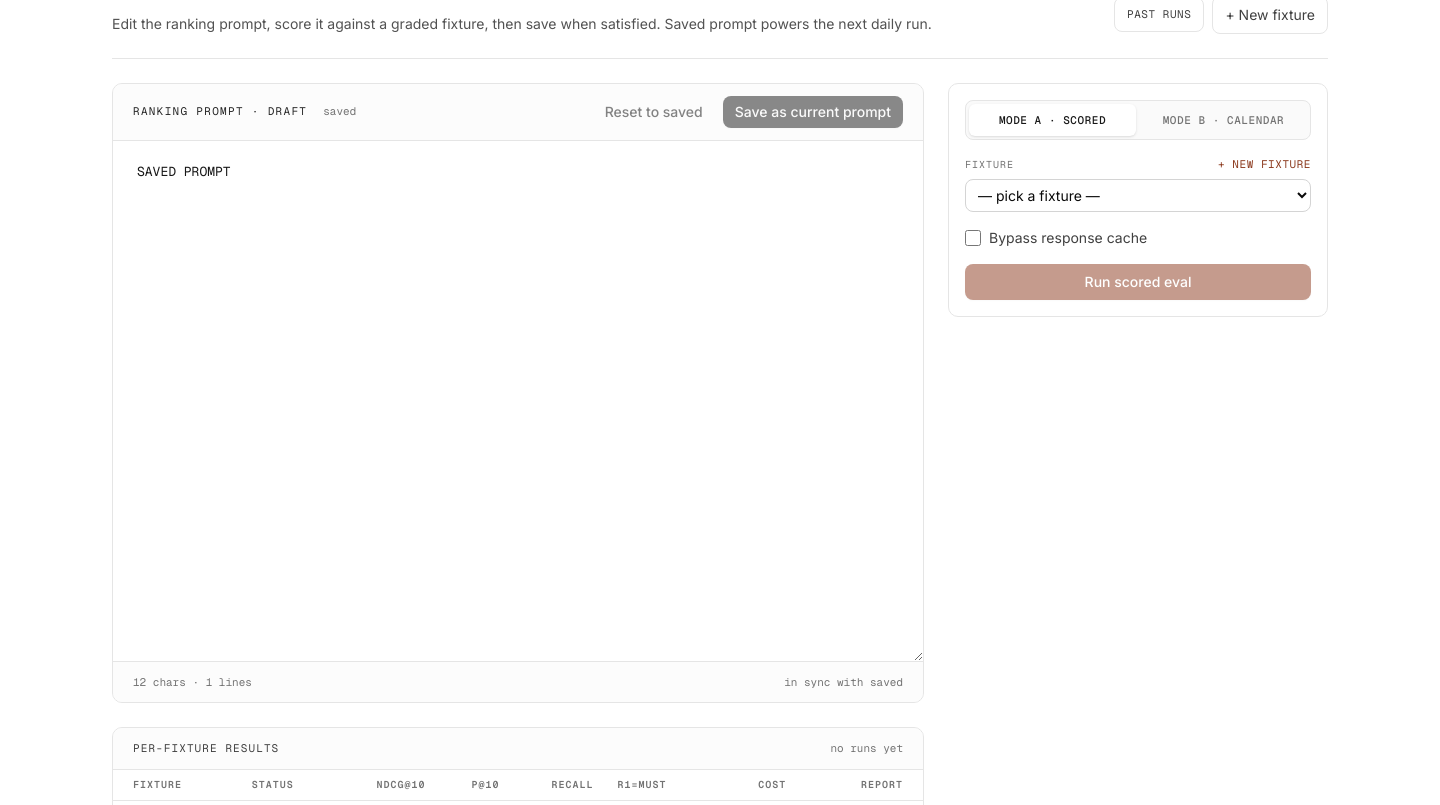
Test: EvalIndexPage › Cancel in diff modal does not save
(page scrolled)
Replace the text in the text box with test id "prompt-editor-textarea" with "DRAFT PROMPT" at (518, 400), box [113, 140, 923, 660]
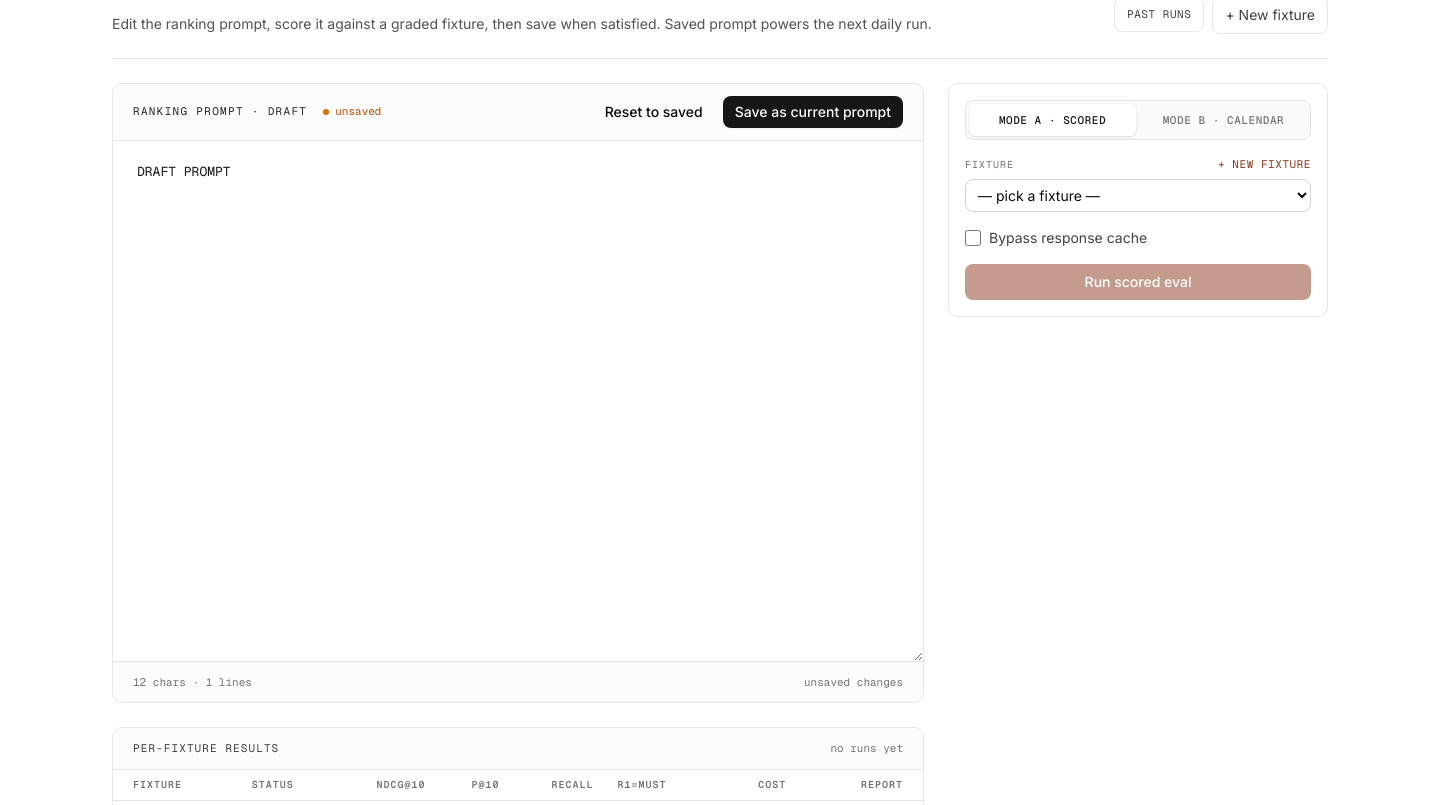
Click the button "Save as current prompt".
click(813, 112)  # box [723, 96, 903, 128]
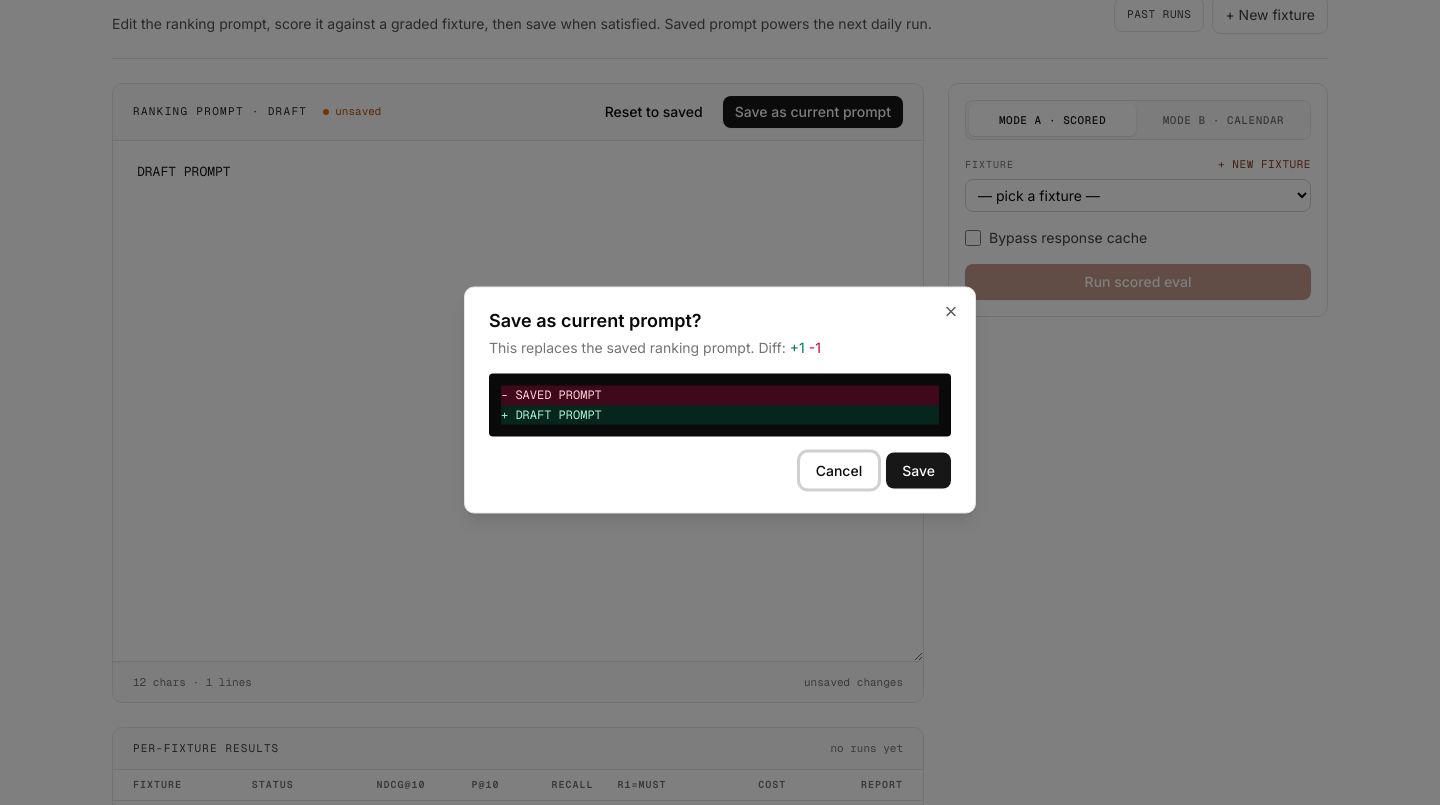
expect the element with test id "prompt-diff-body" is shown: met, box [489, 374, 951, 436]
Click the button "Cancel".
click(839, 470)  # box [800, 452, 878, 488]
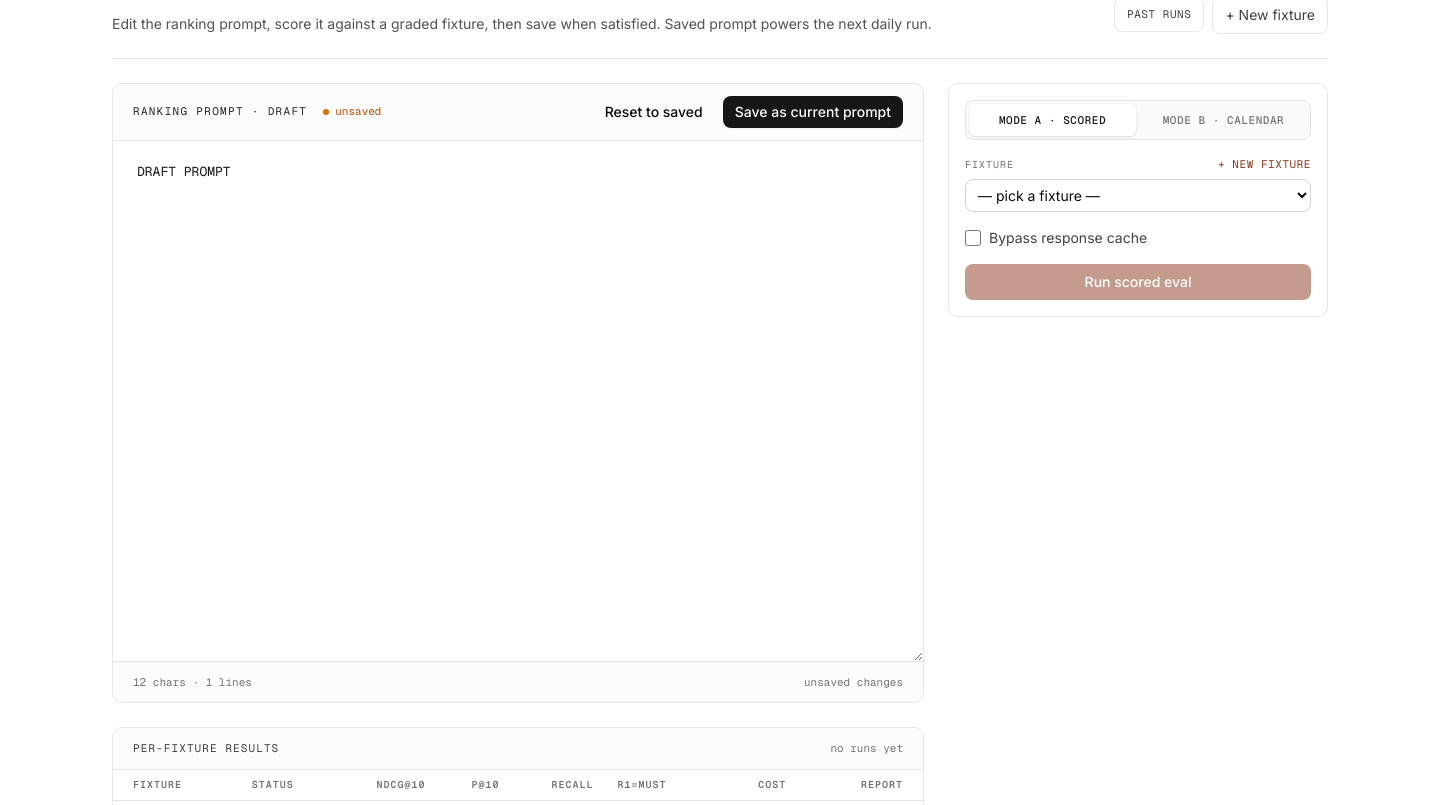
expect the element with test id "prompt-diff-body" is gone: met
